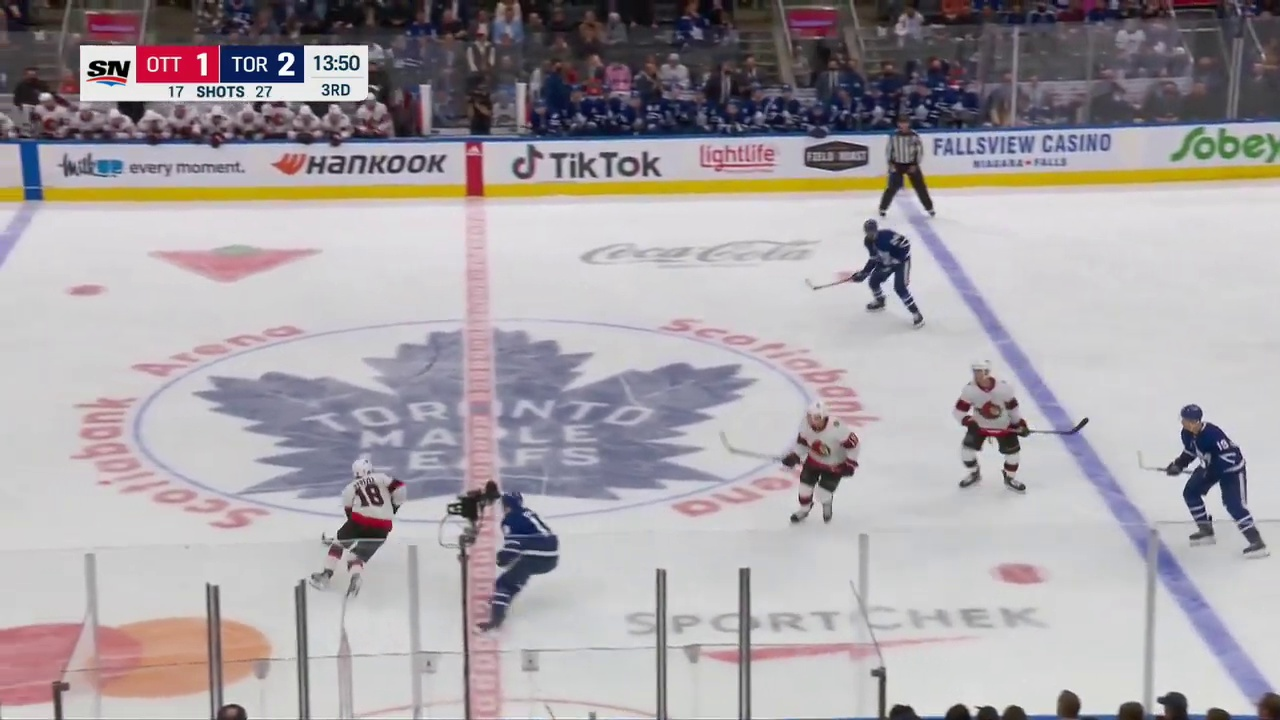hockeyplayer: (1166, 403, 1269, 559), (308, 458, 407, 597), (474, 490, 561, 639), (952, 359, 1028, 495), (781, 401, 860, 526), (850, 219, 925, 330)
referee: (879, 115, 935, 218)
